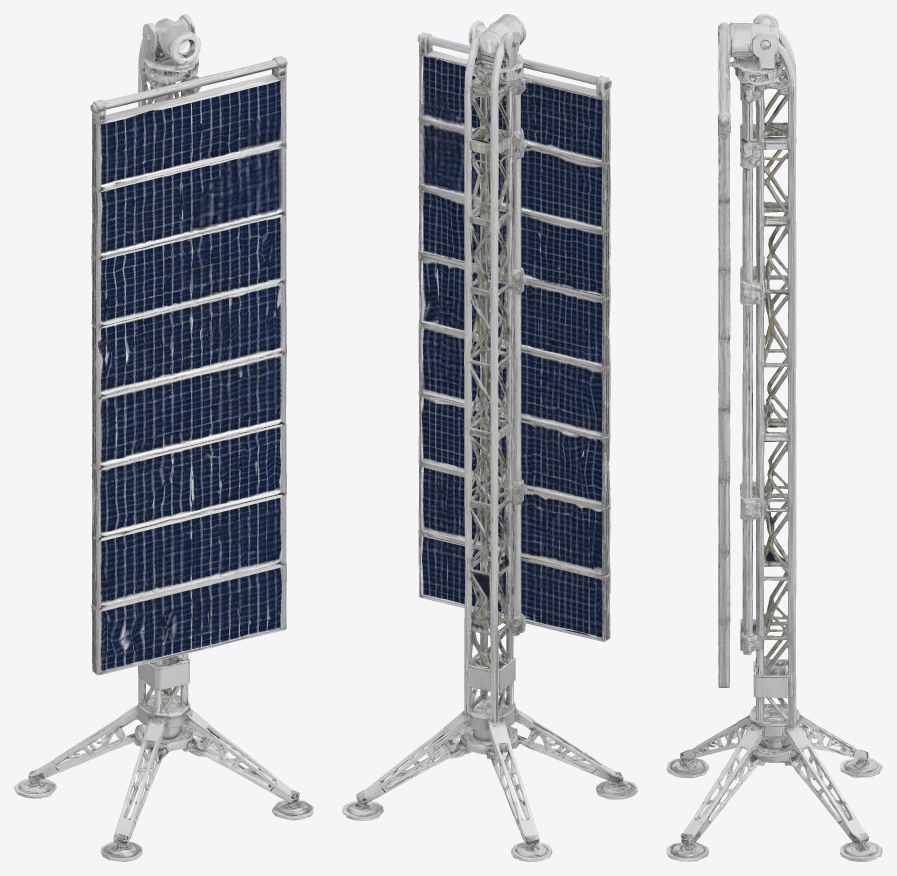
The model's file is moon-vsat.glb.
The picture shows the model from 3 angles, left to right: view 1: azimuth 30°, elevation 25°; view 2: azimuth 150°, elevation 25°; view 3: azimuth 270°, elevation 25°; orthographic projection.
Parts seen in each view (by area): view 1: Mesh_0; view 2: Mesh_0; view 3: Mesh_0.
Boxes of the visible parts, x1,y1,x2,y2 form: Mesh_0: (14, 14, 313, 861); Mesh_0: (342, 14, 637, 861); Mesh_0: (666, 14, 882, 861).
Bounding box in the file's own units: 0.5265 × 1.9 × 0.472.
Materials: 1 (1 with a texture image).
